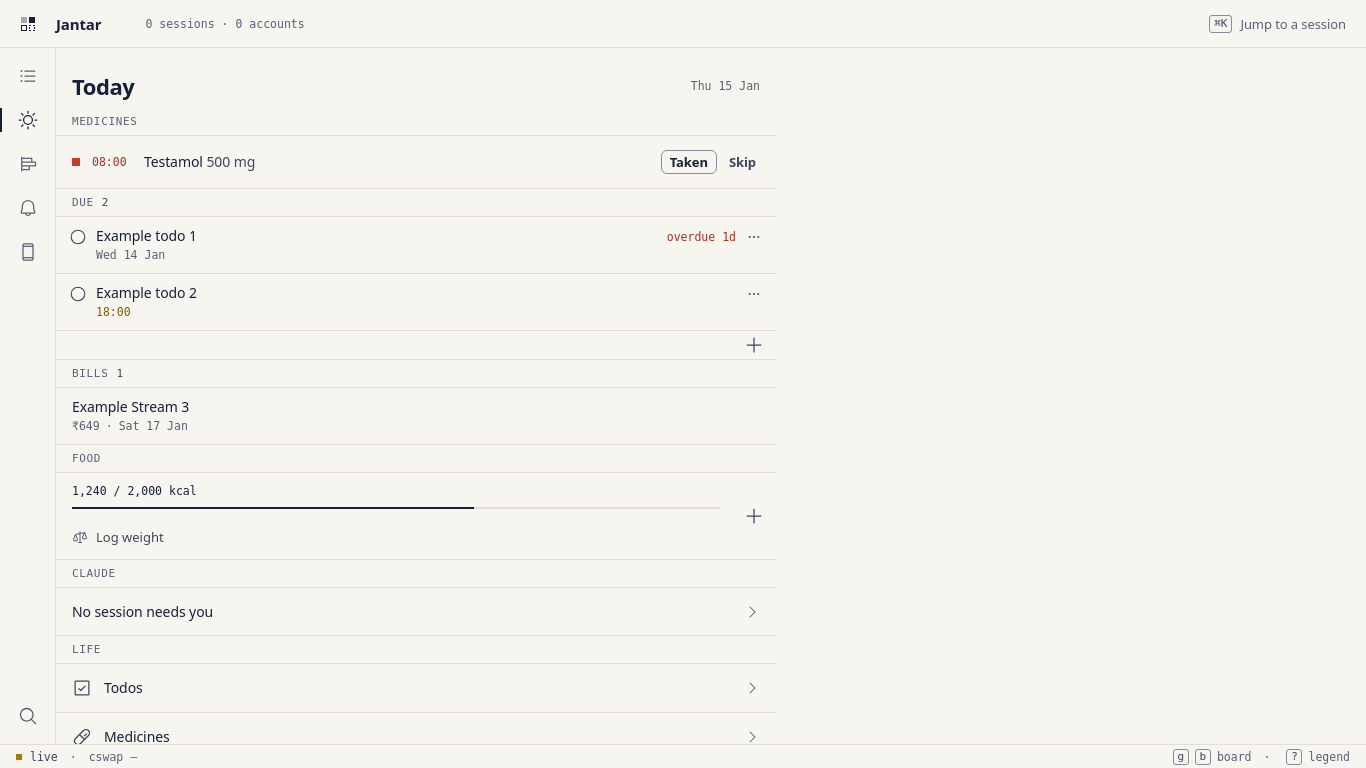
Test: Today: sections › shows calories against the target, "Log weight" with none logged today, and + opens the add sheet
This screenshot has width=1366, height=768.
Expected: the text "1,240 / 2,000 kcal" is shown, [72,483,197,499]
Expected: the button "Log weight" is shown, [56,515,736,559]
Click the button named "Add food".
click(754, 516)  # box [740,502,768,530]
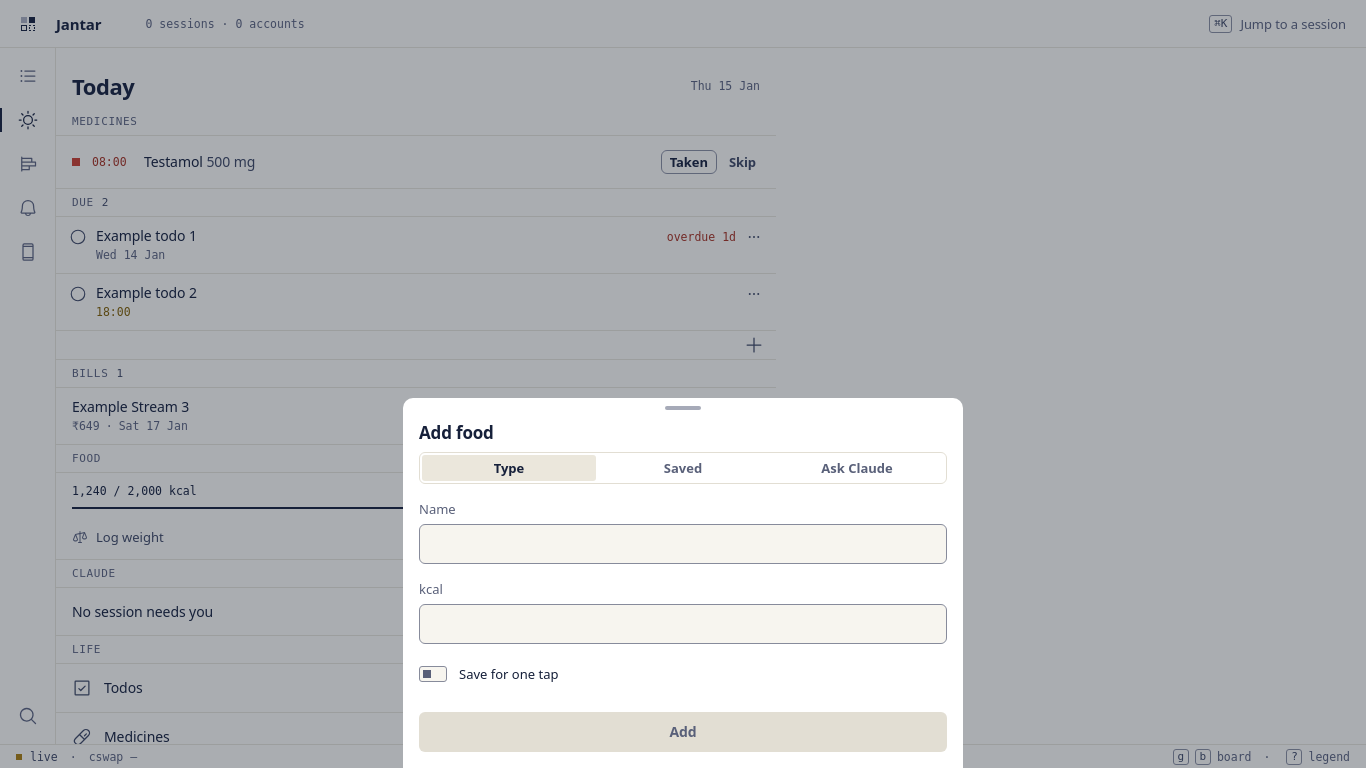
Now the dialog "Add food" is shown, box [403,398,963,767]
